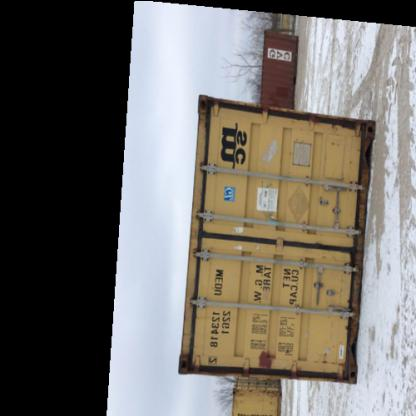Damage: (196, 90, 238, 126), (334, 242, 364, 284), (332, 346, 360, 385), (174, 346, 204, 378), (336, 118, 378, 140), (254, 344, 282, 374)
